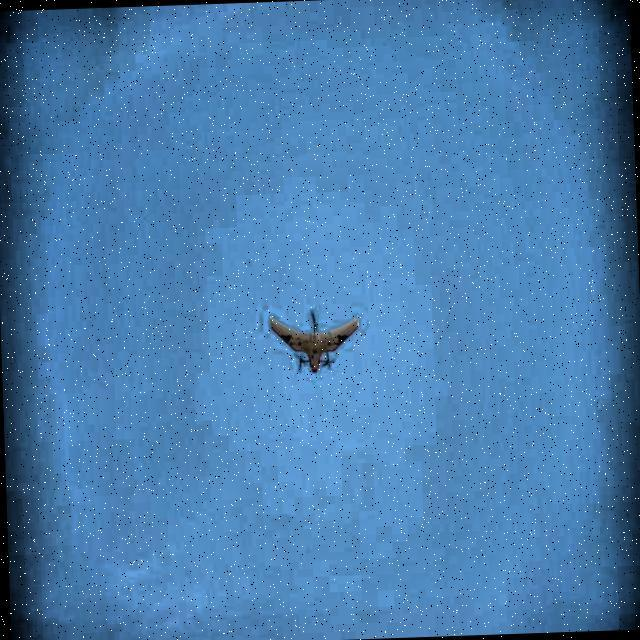iha: (289, 334, 339, 348)
